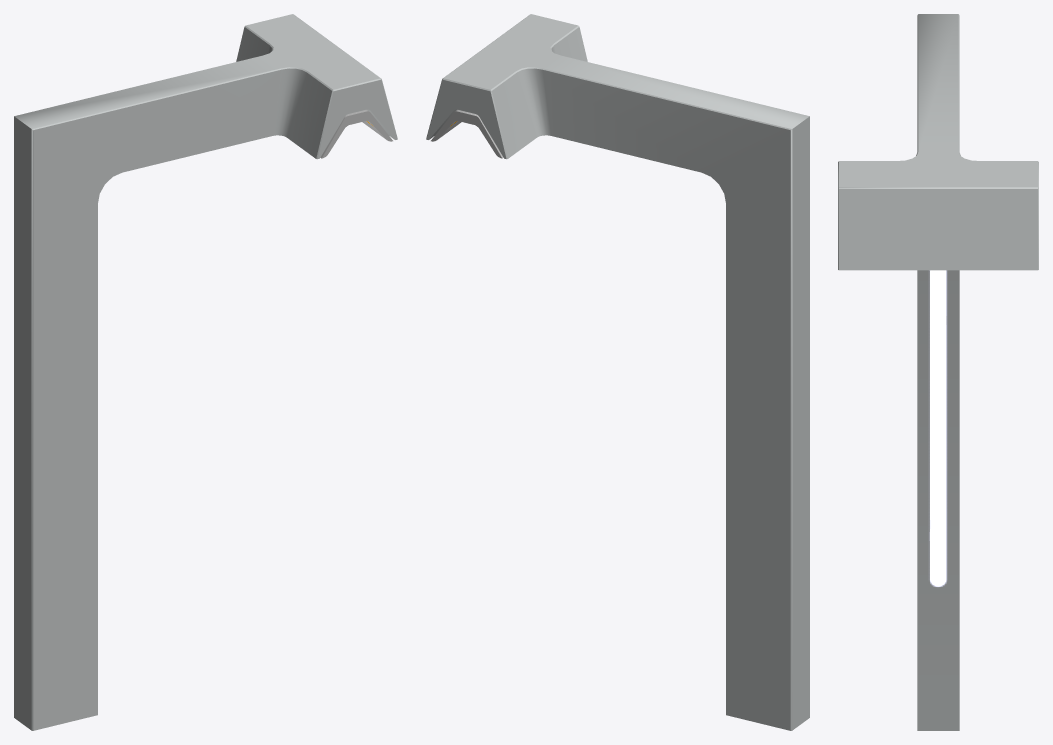
The model's file is EB_Charger_s.FBX.
3 renders of one model, left to right at view 1: azimuth 30°, elevation 25°; view 2: azimuth 150°, elevation 25°; view 3: azimuth 270°, elevation 25°, orthographic. The views are drawn at different scales.
Parts seen in each view (by area): view 1: Electrobus_Charger; view 2: Electrobus_Charger; view 3: Electrobus_Charger.
Part boxes in pixels (x1,y1,x2,y2): Electrobus_Charger: [14, 14, 397, 730]; Electrobus_Charger: [426, 14, 809, 730]; Electrobus_Charger: [838, 14, 1038, 730].
Bounding box in the file's own units: 3.03 × 5.27 × 1.41.
1 material, 1 textured.
